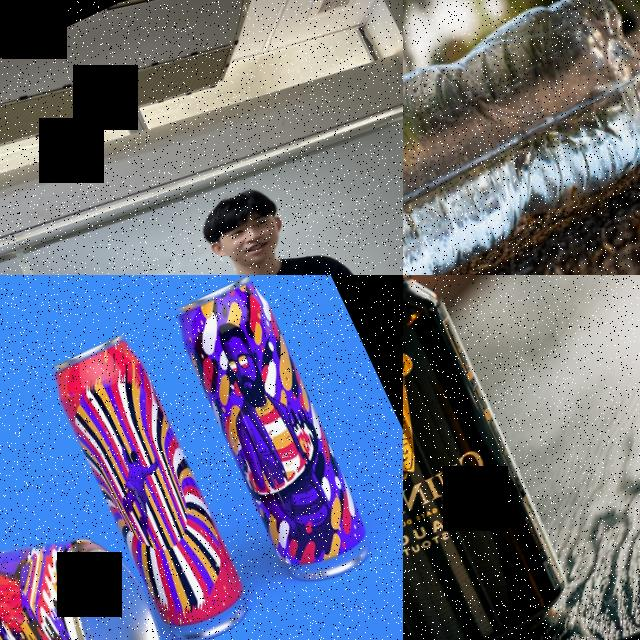bottle: (403, 0, 640, 275)
can: (163, 275, 383, 595), (41, 329, 259, 640), (403, 275, 586, 640), (0, 501, 191, 640)
